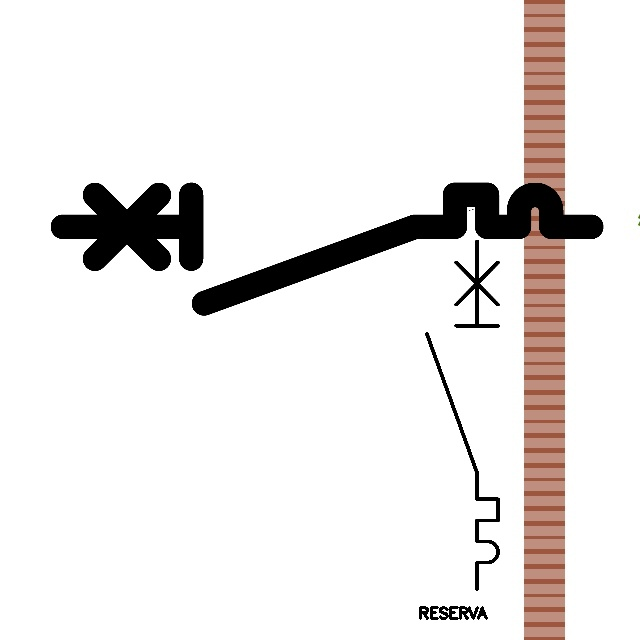interruptor_termomagnetico: (49, 181, 605, 317), (418, 232, 507, 597)
